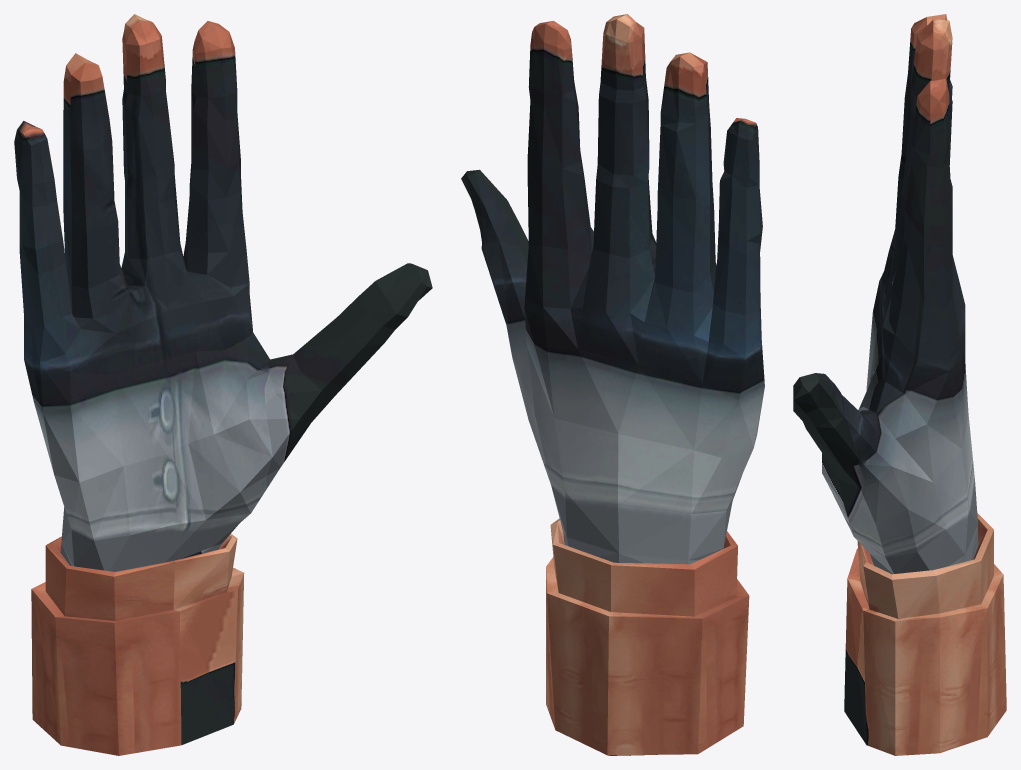
Rendered from hand.obj.
The picture shows the model from 3 angles, left to right: view 1: azimuth 30°, elevation 25°; view 2: azimuth 150°, elevation 25°; view 3: azimuth 270°, elevation 25°; orthographic projection.
Visible parts, largest first — view 1: name_name.001; view 2: name_name.001; view 3: name_name.001.
Boxes of the visible parts, <box> form: name_name.001: <box>14,14,432,755</box>; name_name.001: <box>461,14,764,755</box>; name_name.001: <box>793,14,1006,755</box>.
Bounding box in the file's own units: 0.127 × 0.243 × 0.067.
